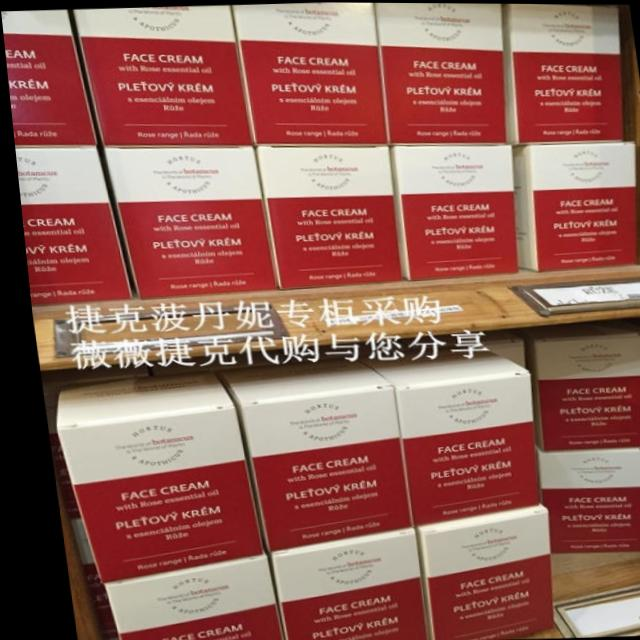box: (48, 369, 254, 583), (210, 352, 402, 551), (346, 343, 529, 527), (100, 145, 272, 299), (72, 4, 250, 145), (231, 2, 384, 147), (250, 143, 397, 289), (373, 2, 504, 145), (405, 505, 543, 640), (255, 527, 419, 640), (12, 148, 127, 305), (386, 141, 514, 278), (502, 3, 622, 143), (511, 140, 631, 271), (91, 553, 270, 640), (521, 332, 640, 450), (1, 9, 93, 147), (530, 446, 640, 552), (465, 329, 518, 366)
